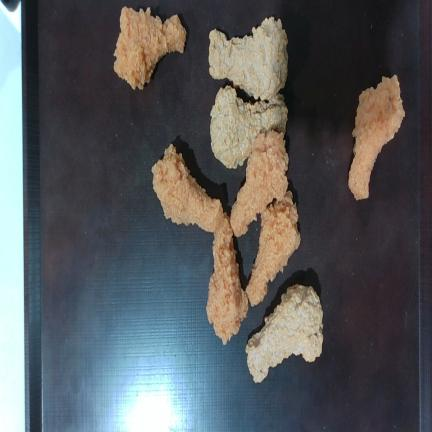chicken: (246, 284, 323, 382), (348, 76, 405, 199), (209, 17, 288, 100), (210, 86, 288, 168), (152, 144, 223, 232), (246, 191, 300, 305), (231, 131, 288, 236), (114, 7, 186, 89), (206, 214, 248, 344)
